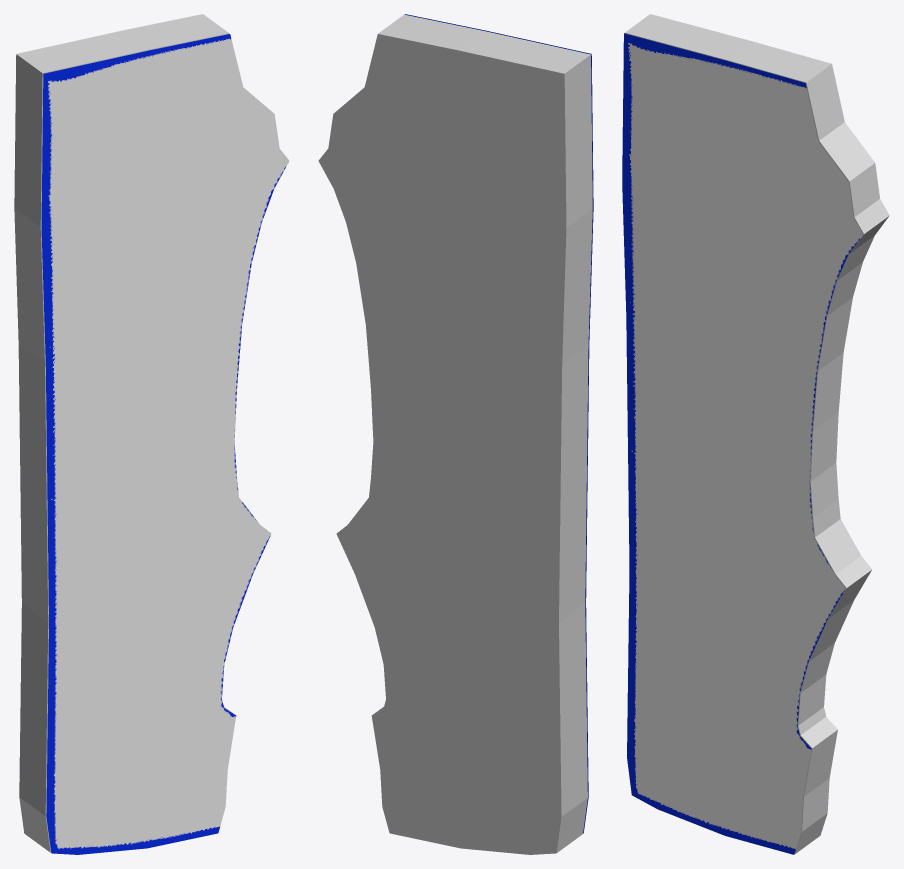
The picture shows the model from 3 angles, left to right: view 1: azimuth 30°, elevation 25°; view 2: azimuth 150°, elevation 25°; view 3: azimuth 330°, elevation 25°; orthographic projection. The views are drawn at different scales.
Visible parts, largest first — view 1: Out_1_1, Out_1_0; view 2: Out_1_0, Out_1_1; view 3: Out_1_1, Out_1_0.
Boxes of the visible parts, <box> form: Out_1_1: <box>41,34,289,854</box>; Out_1_0: <box>14,14,234,852</box>; Out_1_0: <box>318,14,592,854</box>; Out_1_1: <box>405,14,593,833</box>; Out_1_1: <box>622,33,863,854</box>; Out_1_0: <box>624,14,889,854</box>.
Size of the model in its own units: 2.72 by 8.4 by 0.515.
Materials: 2 (1 with a texture image).
